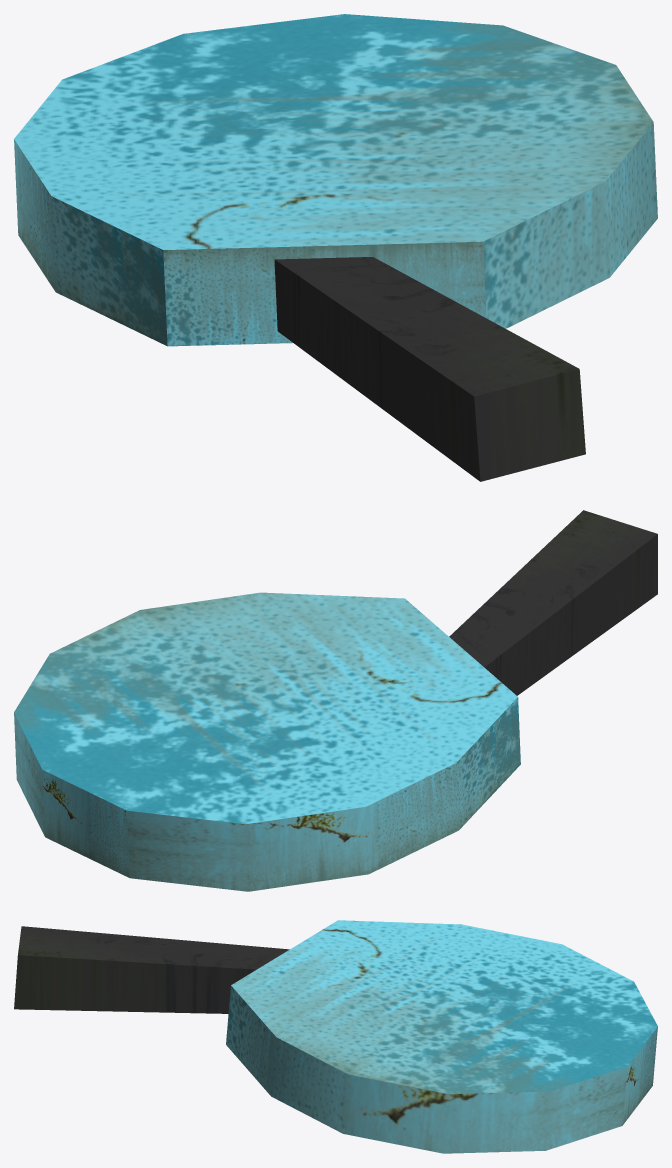
File: pingpong_02.fbx
3 renders of one model, top to bottom at view 1: azimuth 30°, elevation 25°; view 2: azimuth 150°, elevation 25°; view 3: azimuth 270°, elevation 25°, orthographic. The views are drawn at different scales.
Visible parts, largest first — view 1: pingpong_02; view 2: pingpong_02; view 3: pingpong_02.
Boxes of the visible parts, <box> form: pingpong_02: <box>14,14,657,481</box>; pingpong_02: <box>14,510,657,891</box>; pingpong_02: <box>14,920,657,1153</box>.
Bounding box in the file's own units: 0.179 × 0.0473 × 0.2833.
